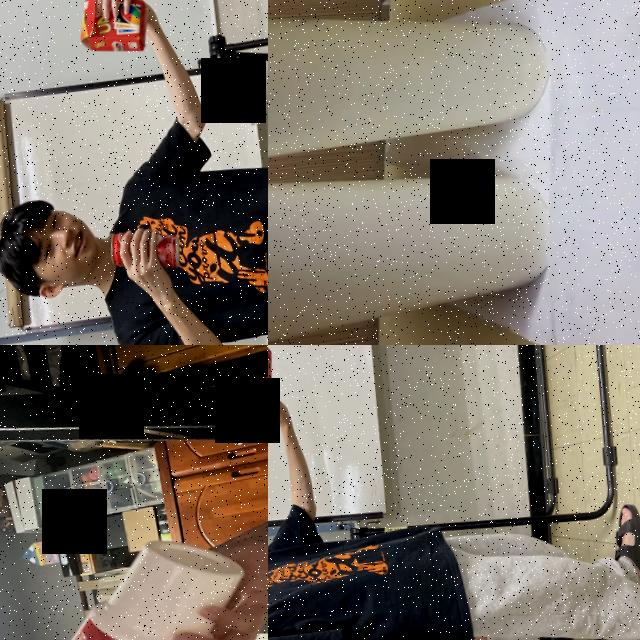can: (108, 225, 182, 276), (268, 345, 277, 416)
cup: (268, 144, 559, 345), (268, 0, 558, 187), (0, 529, 266, 640)
